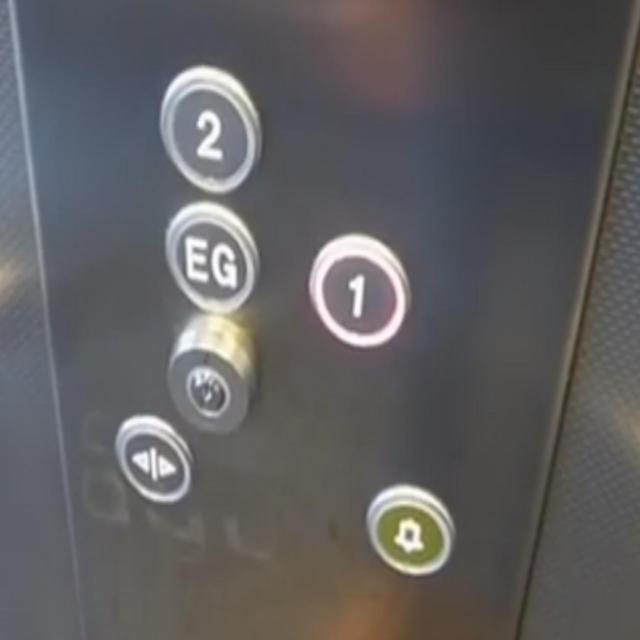1: (305, 228, 413, 352)
2: (158, 62, 263, 193)
EG: (163, 201, 260, 315)
alarm: (363, 478, 457, 582)
keyhole: (164, 317, 258, 439)
open: (112, 410, 197, 510)
